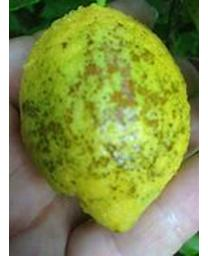lemon: (17, 4, 189, 230)
